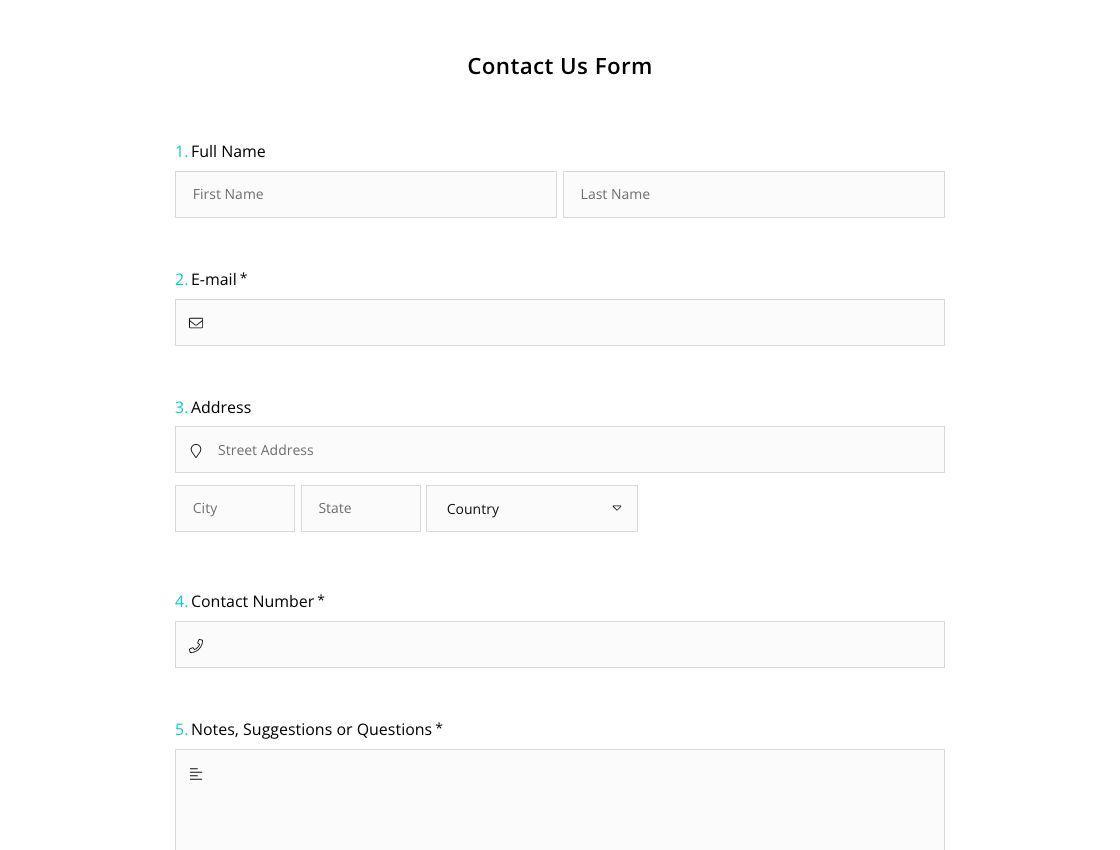dropdown: (426, 484, 643, 538)
input: (170, 294, 949, 348), (174, 618, 951, 669), (172, 426, 951, 476), (171, 169, 562, 223), (564, 171, 950, 224), (170, 481, 299, 539), (301, 484, 424, 539)
label: (174, 719, 447, 744), (172, 591, 330, 614), (167, 141, 267, 163), (174, 398, 258, 421), (172, 268, 253, 290)
